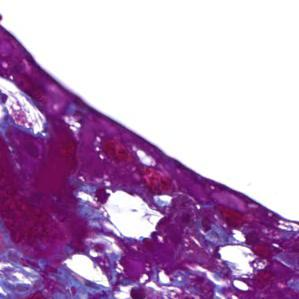ballooning: (4, 79, 48, 137)
